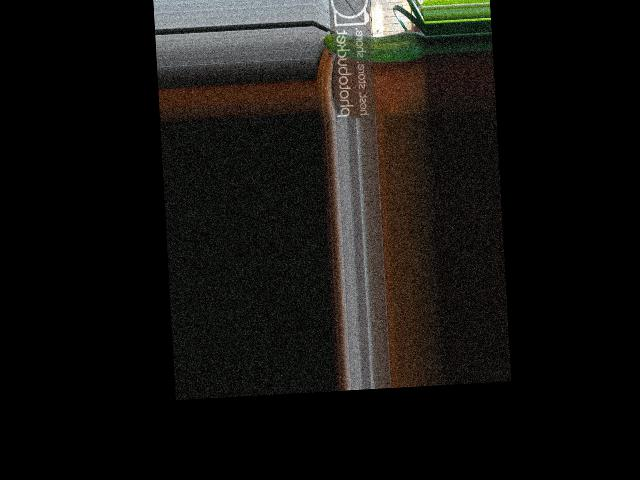cucumber: (318, 28, 426, 65)
